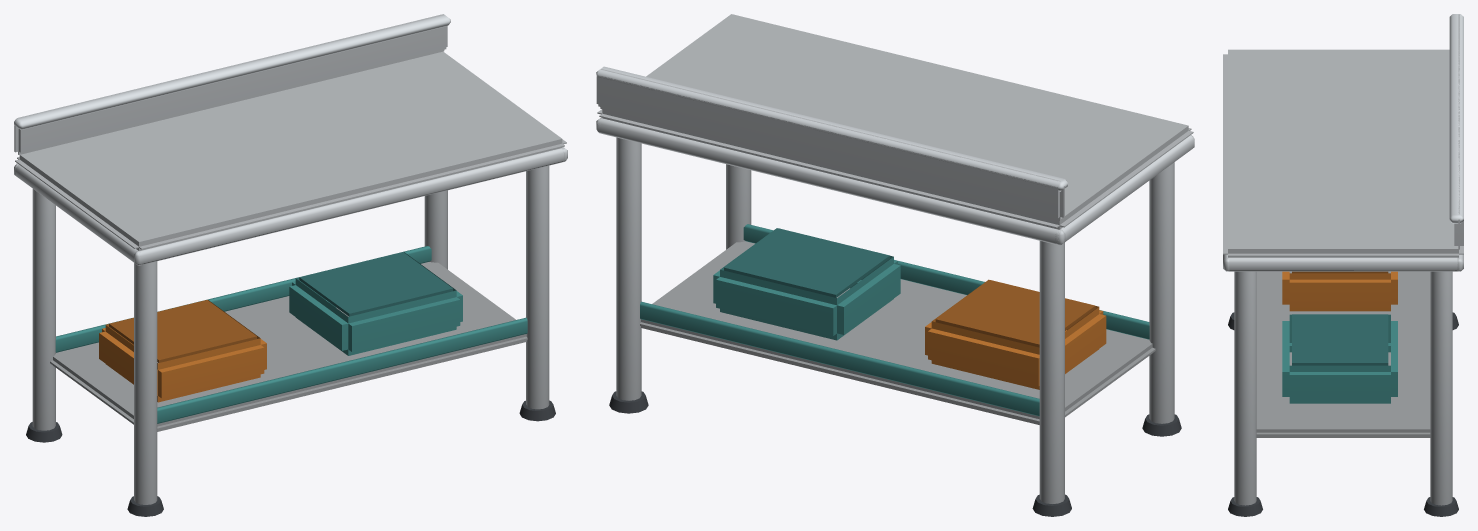
The model's file is SM_WorkTable_Backsplash_15.glb.
The picture shows the model from 3 angles, left to right: view 1: azimuth 30°, elevation 25°; view 2: azimuth 150°, elevation 25°; view 3: azimuth 270°, elevation 25°; orthographic projection. The views are drawn at different scales.
Visible parts, largest first — view 1: SM_WorkTable_Backsplash_15; view 2: SM_WorkTable_Backsplash_15; view 3: SM_WorkTable_Backsplash_15.
Boxes of the visible parts, <box> form: SM_WorkTable_Backsplash_15: <box>14,14,567,516</box>; SM_WorkTable_Backsplash_15: <box>596,14,1194,516</box>; SM_WorkTable_Backsplash_15: <box>1223,14,1463,516</box>.
Bounding box in the file's own units: 1.5 × 1.04 × 0.75.
1 material, 1 textured.
